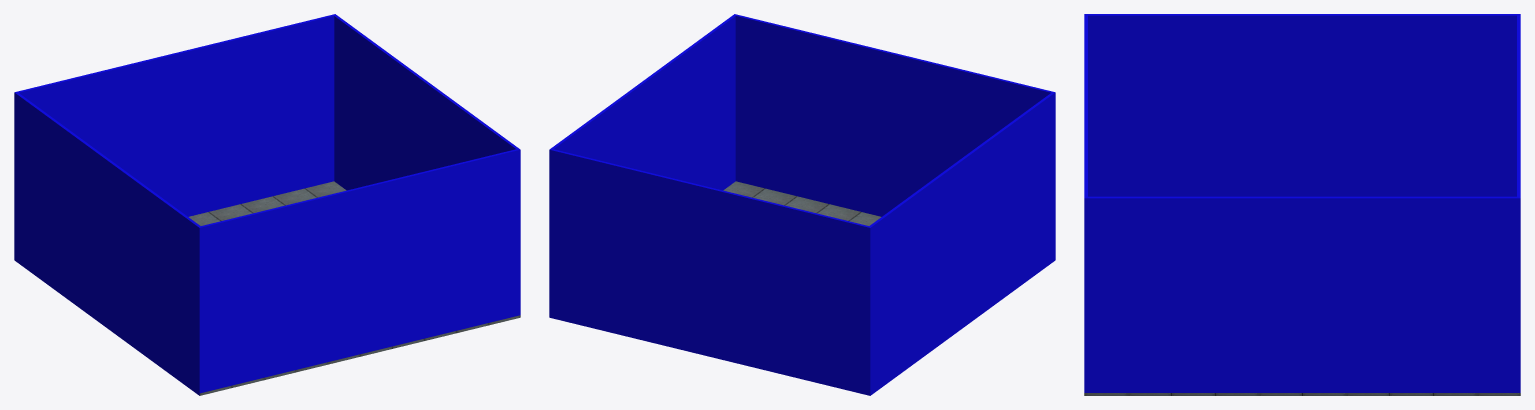
The model's file is room3.fbx.
The picture shows the model from 3 angles, left to right: view 1: azimuth 30°, elevation 25°; view 2: azimuth 150°, elevation 25°; view 3: azimuth 270°, elevation 25°; orthographic projection. The views are drawn at different scales.
Parts seen in each view (by area): view 1: window; view 2: window; view 3: window.
Part boxes in pixels (left/top/right/bottom): window: left=14, top=14, right=520, bottom=395; window: left=549, top=14, right=1055, bottom=395; window: left=1084, top=14, right=1520, bottom=392.
Size of the model in its own units: 400 by 201 by 400.
Materials: 2 (1 with a texture image).
